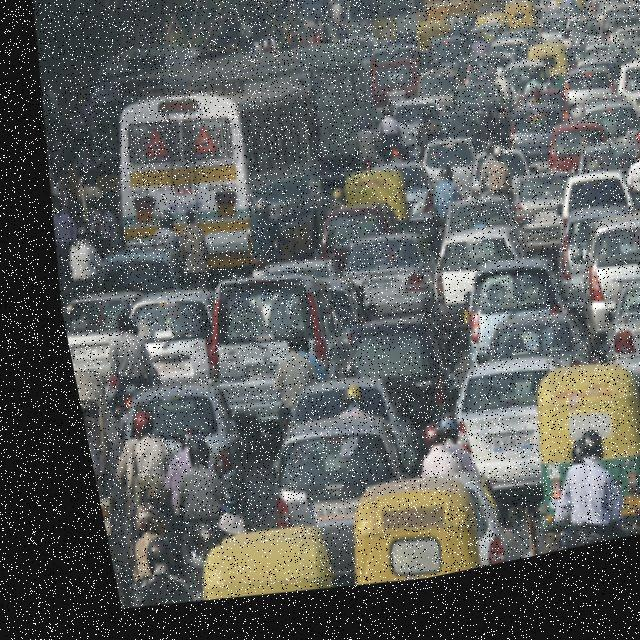license_plate: (464, 444, 511, 474), (288, 508, 336, 536), (136, 357, 178, 382), (228, 364, 262, 394)
